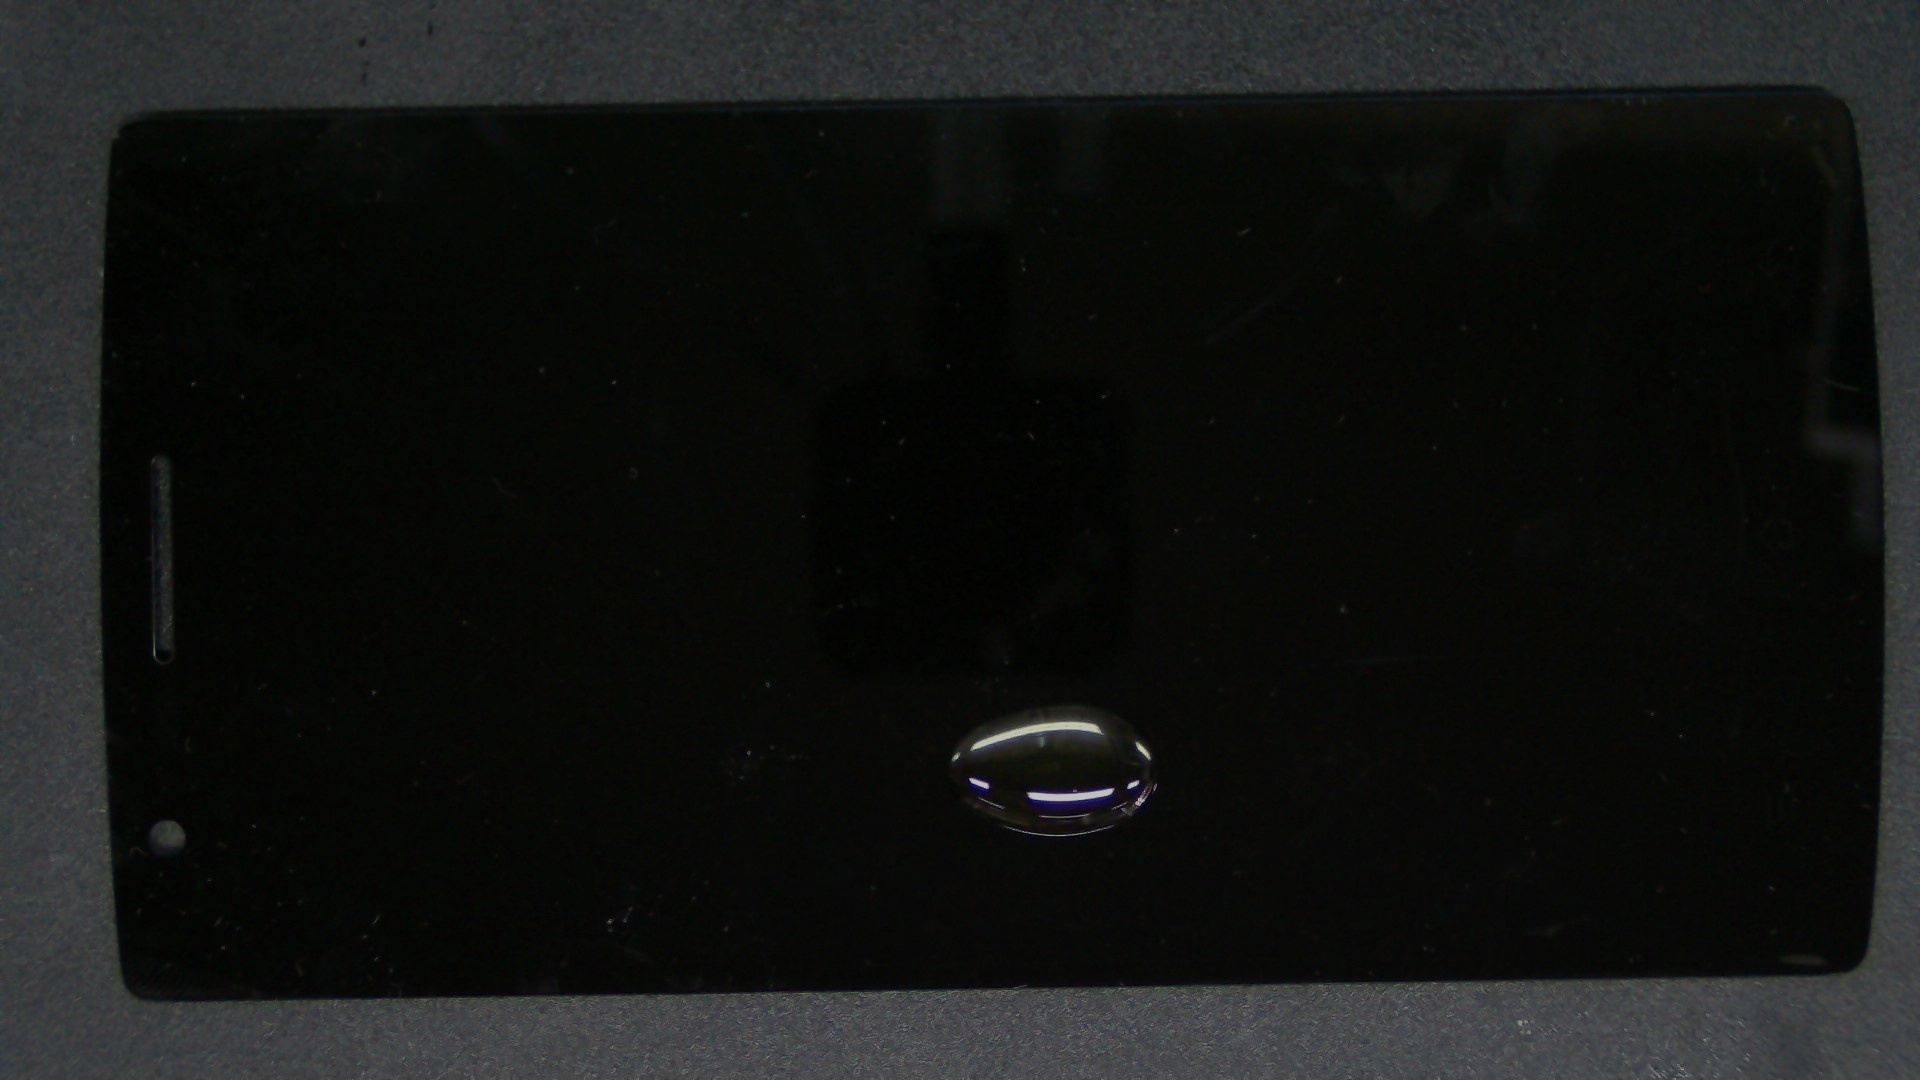oil: (527, 352, 1581, 1059)
